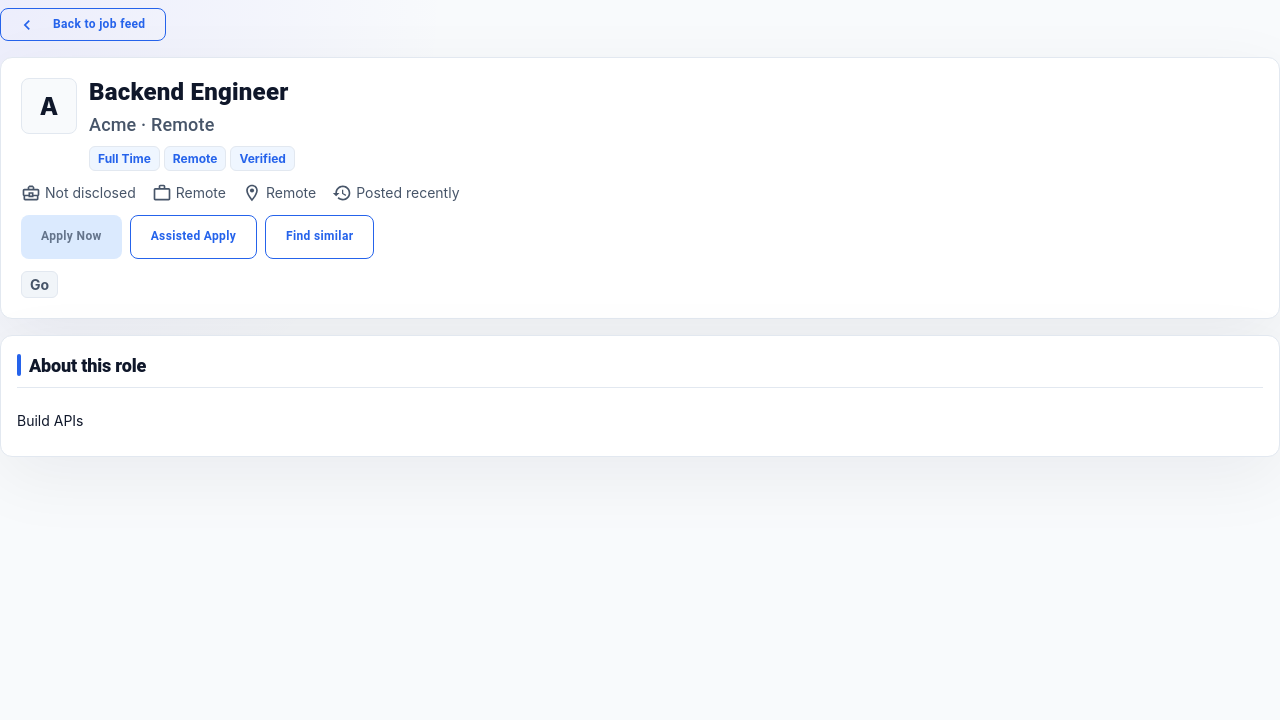
Test: JobDetailPage › toasts when the similar-jobs API fails
Expected: the heading "Backend Engineer" is shown, x1=89 y1=78 x2=288 y2=106
Click the button "Find similar" at (320, 237), box x1=265 y1=215 x2=374 y2=259
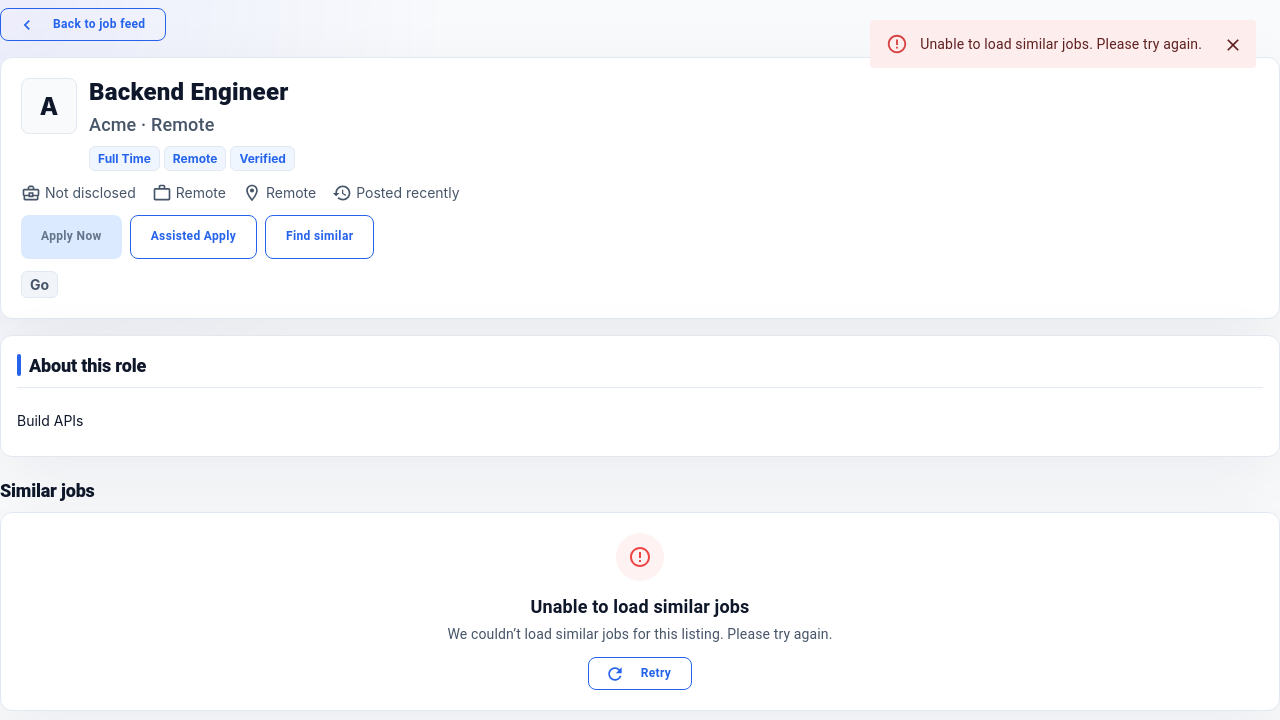
Expected: the text "Unable to load similar jobs. Please try again." is shown, x1=920 y1=36 x2=1202 y2=52
Expected: the heading "Unable to load similar jobs" is shown, x1=530 y1=596 x2=750 y2=617
